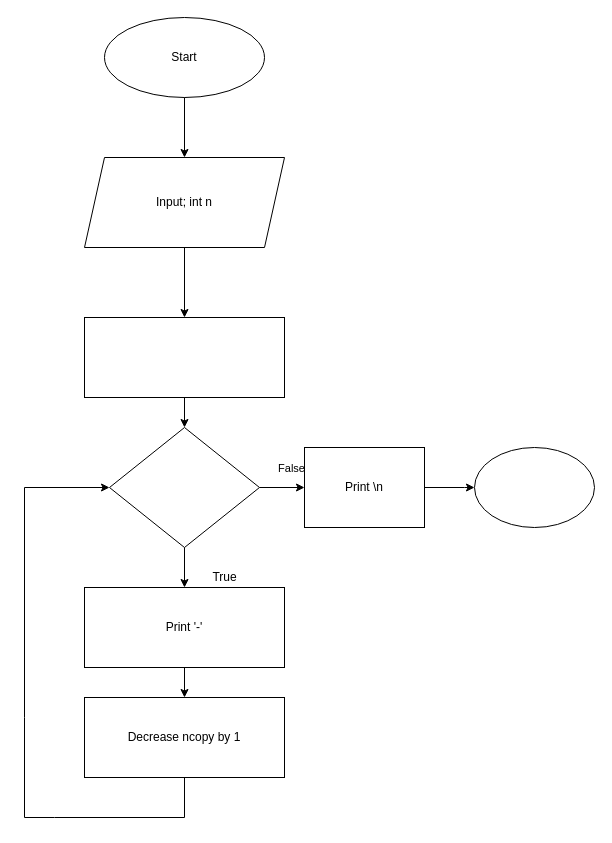
This 612x843 diagram has some shape labels left out. Here are the shapes that lost their labels. From the top down, the centre of each, then its label:
At [184,357]: "Initialize int ncopy, equal to n".
At [184,487]: "ls ncopy>0?".
At [534,487]: "End".
